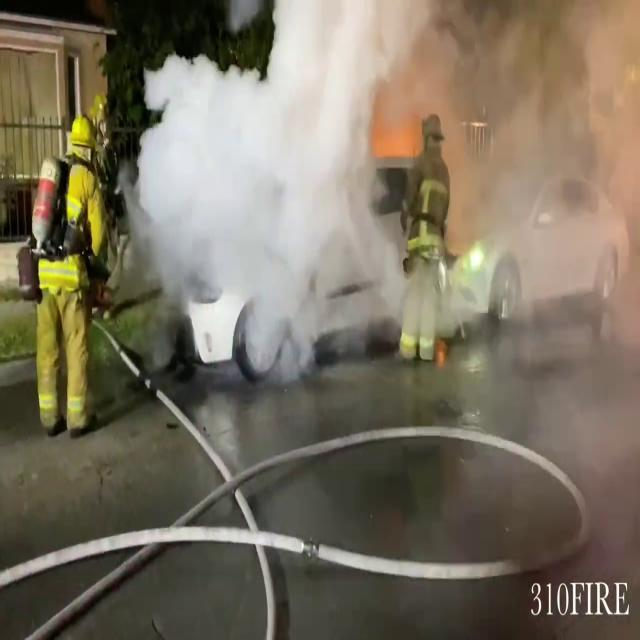Smoke: (126, 0, 430, 395), (460, 0, 640, 236)
